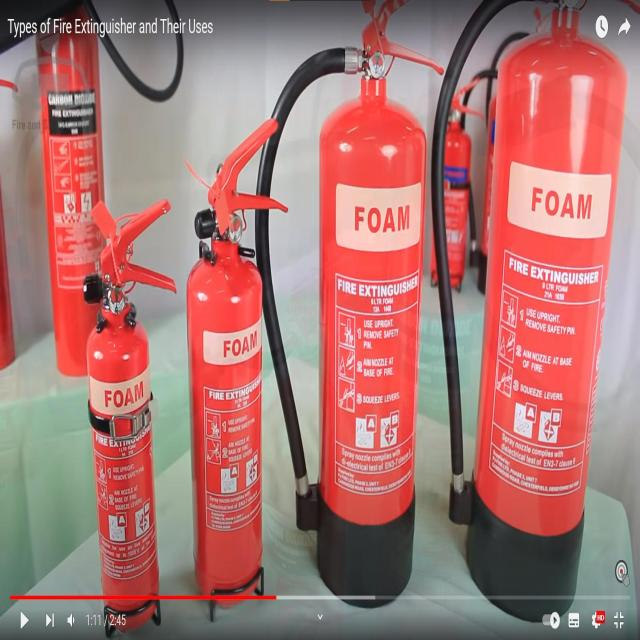fire_extinguisher: (427, 0, 638, 623), (247, 0, 446, 610), (0, 0, 190, 384), (186, 115, 290, 620), (79, 190, 181, 638), (427, 66, 484, 295)
